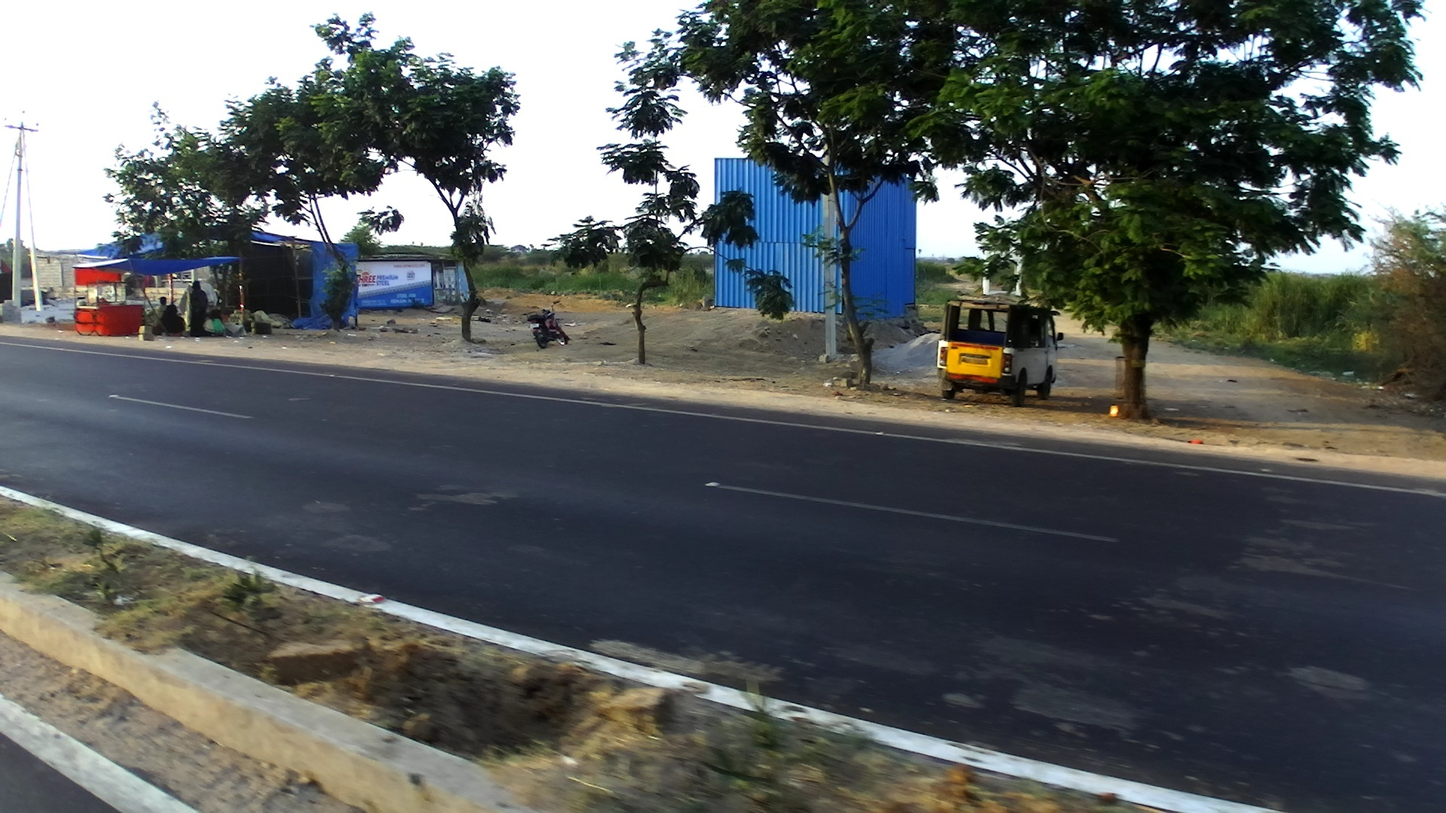car: (933, 289, 1066, 406)
motorcycle: (69, 262, 148, 336), (519, 296, 569, 347)
person: (185, 277, 208, 337), (160, 305, 186, 334), (155, 298, 172, 336)
